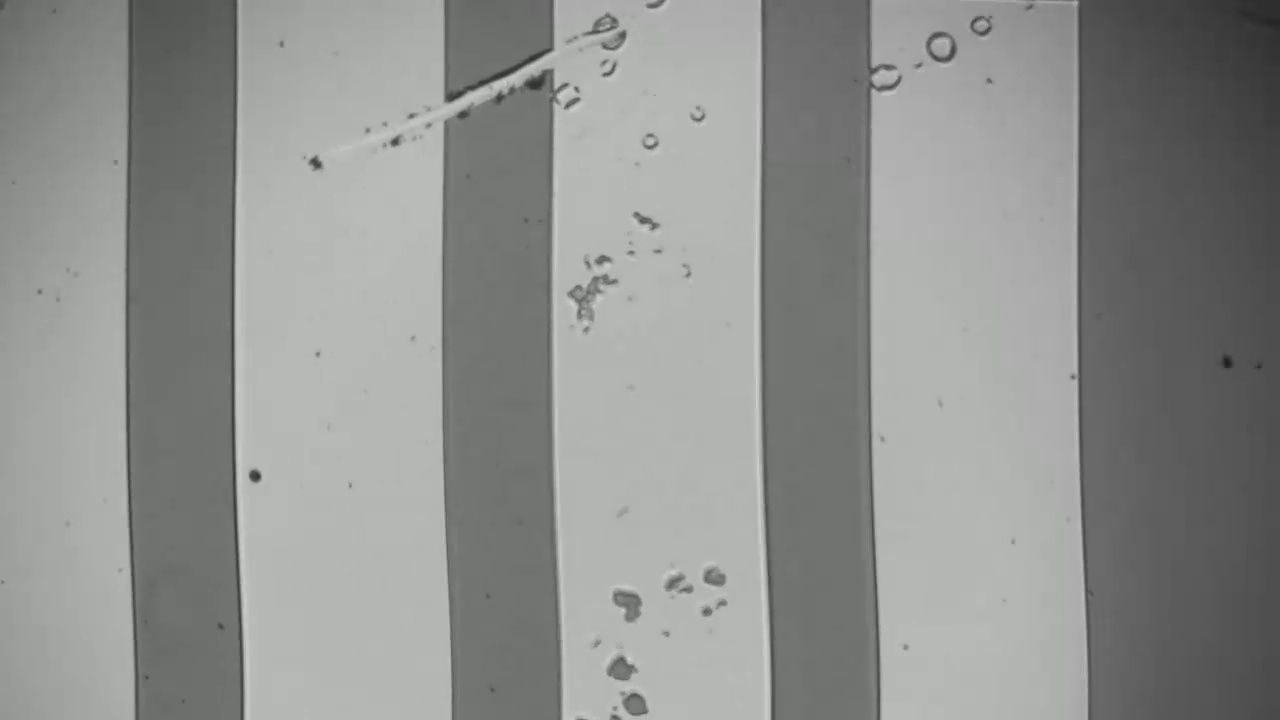Short_circuit: (422, 16, 575, 146)
